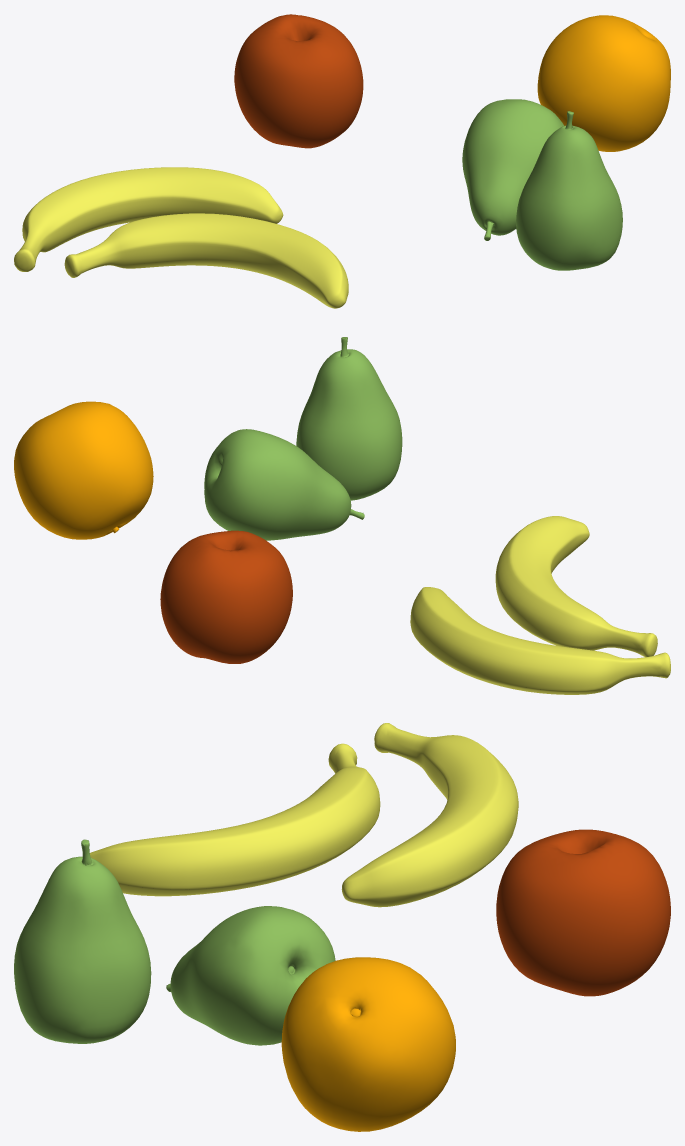
File: fruits.fbx
3 renders of one model, top to bottom at view 1: azimuth 30°, elevation 25°; view 2: azimuth 150°, elevation 25°; view 3: azimuth 270°, elevation 25°, orthographic. The views are drawn at different scales.
Visible parts, largest first — view 1: fruits; view 2: fruits; view 3: fruits.
Boxes of the visible parts, x1,y1,x2,y2 form: fruits: (14,14,670,308); fruits: (14,337,670,694); fruits: (14,723,670,1131).
Bounding box in the file's own units: 7.07 × 1.57 × 4.86.
